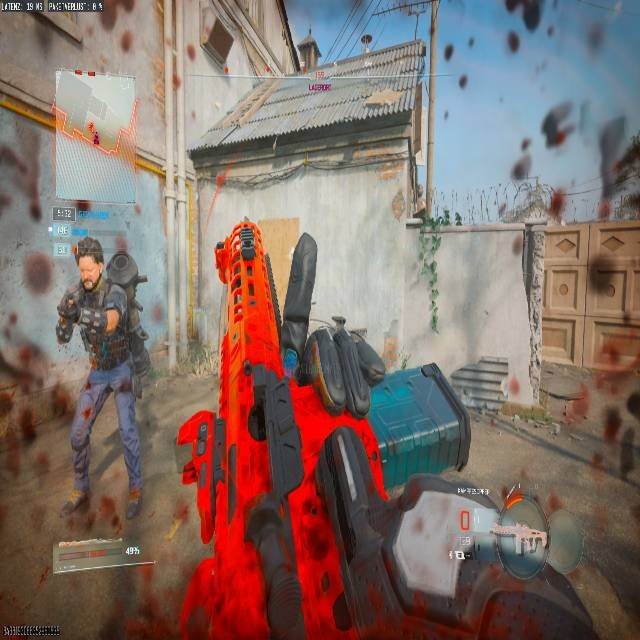head: (75, 237, 105, 290), (20, 249, 53, 296)
player: (52, 237, 148, 531), (45, 239, 162, 402), (0, 243, 64, 493)
